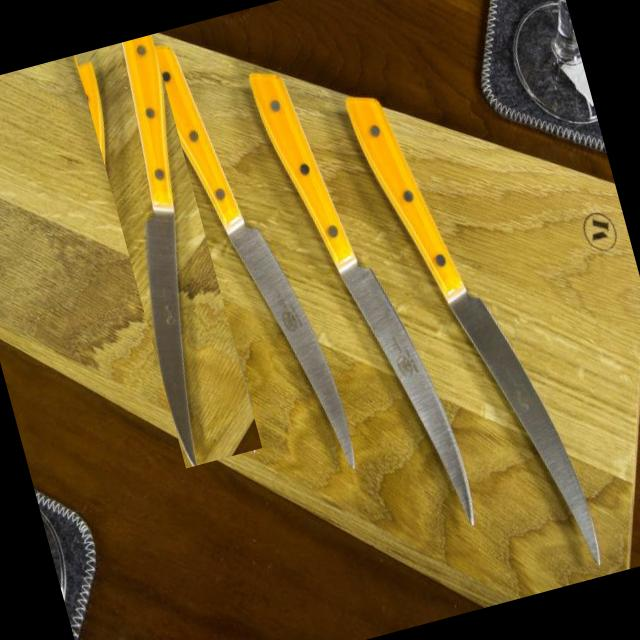Knife: (346, 97, 599, 563), (248, 73, 474, 523), (142, 45, 355, 465), (122, 34, 196, 466)
